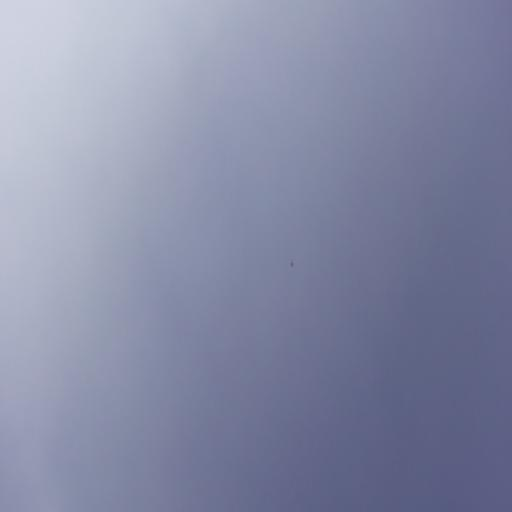drones: (289, 259, 295, 269)
